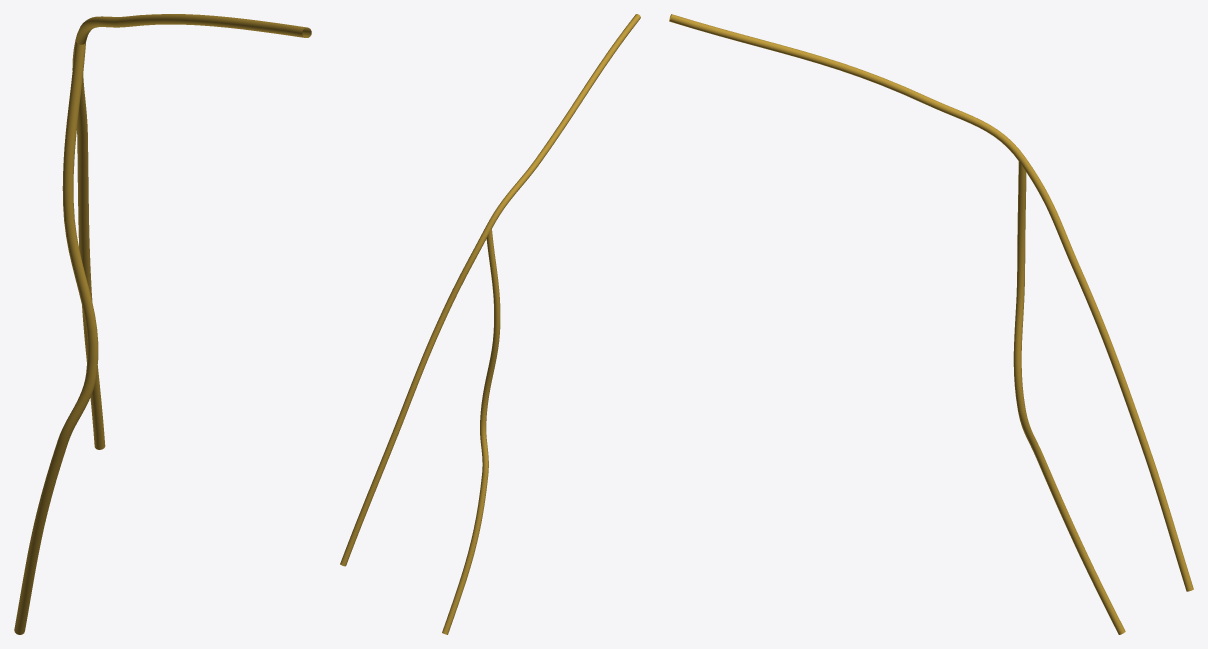
3 renders of one model, left to right at view 1: azimuth 30°, elevation 25°; view 2: azimuth 150°, elevation 25°; view 3: azimuth 270°, elevation 25°, orthographic. The views are drawn at different scales.
Visible parts, largest first — view 1: 左侧足背中间皮神经; view 2: 左侧足背中间皮神经; view 3: 左侧足背中间皮神经.
Boxes of the visible parts, box(x1,y1,x2,y2) form: 左侧足背中间皮神经: box(14, 14, 311, 634); 左侧足背中间皮神经: box(340, 14, 640, 634); 左侧足背中间皮神经: box(669, 14, 1193, 634).
Bounding box in the file's own units: 0.0257 × 0.1254 × 0.0973.
